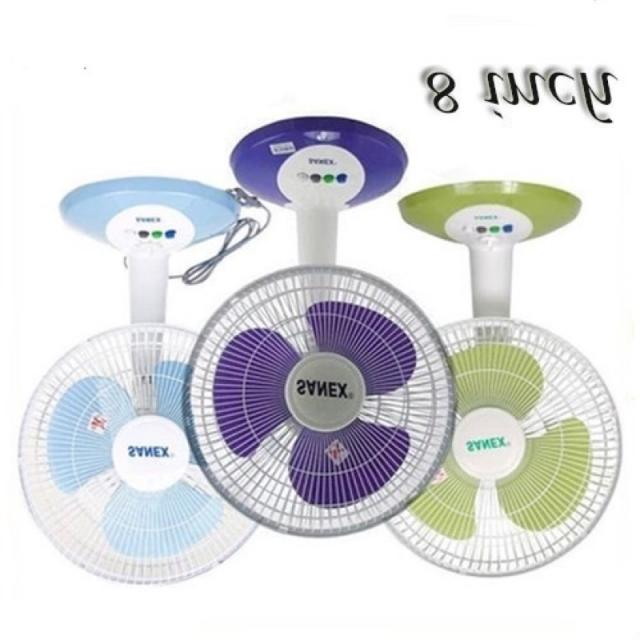fan: (9, 119, 628, 583)
